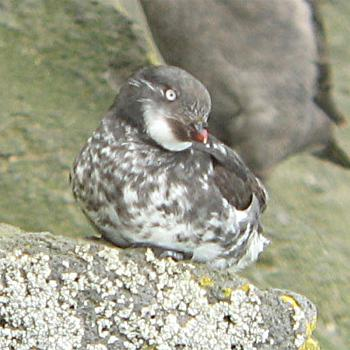006.Least_Auklet: (68, 64, 271, 273)
